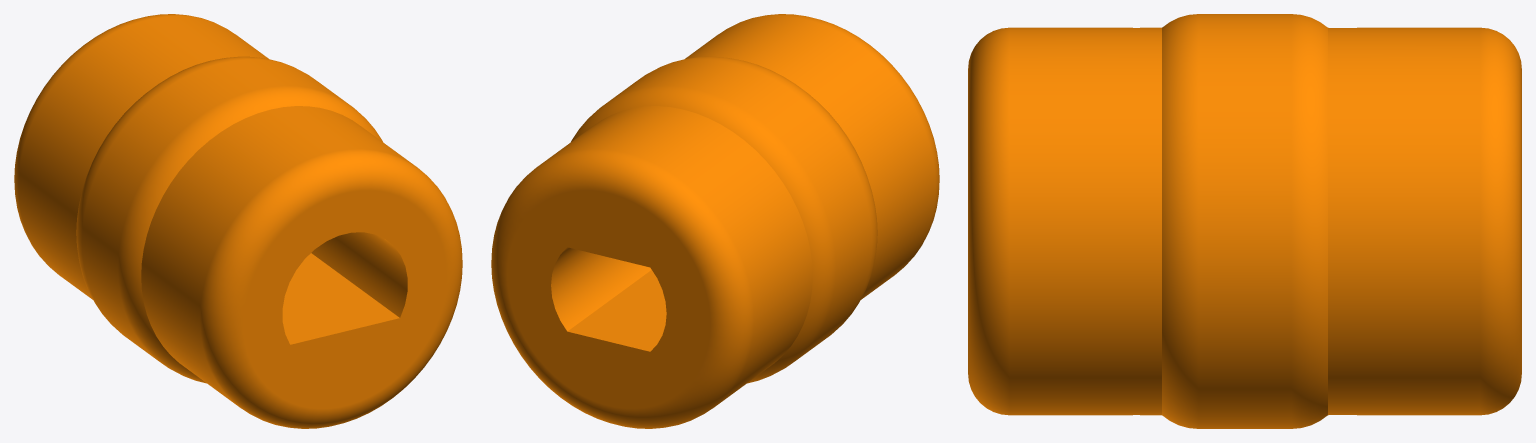
File: acopladormotor.dae
The picture shows the model from 3 angles, left to right: view 1: azimuth 30°, elevation 25°; view 2: azimuth 150°, elevation 25°; view 3: azimuth 270°, elevation 25°; orthographic projection. The views are drawn at different scales.
Parts seen in each view (by area): view 1: node_8bf97669_6265_4bfa_8640_021f078ec1a4_mesh0; view 2: node_8bf97669_6265_4bfa_8640_021f078ec1a4_mesh0; view 3: node_8bf97669_6265_4bfa_8640_021f078ec1a4_mesh0.
Boxes of the visible parts, x1,y1,x2,y2 form: node_8bf97669_6265_4bfa_8640_021f078ec1a4_mesh0: (14,14,462,428); node_8bf97669_6265_4bfa_8640_021f078ec1a4_mesh0: (491,14,939,428); node_8bf97669_6265_4bfa_8640_021f078ec1a4_mesh0: (968,14,1521,428).
Bounding box in the file's own units: 0.015 × 0.015 × 0.02.
